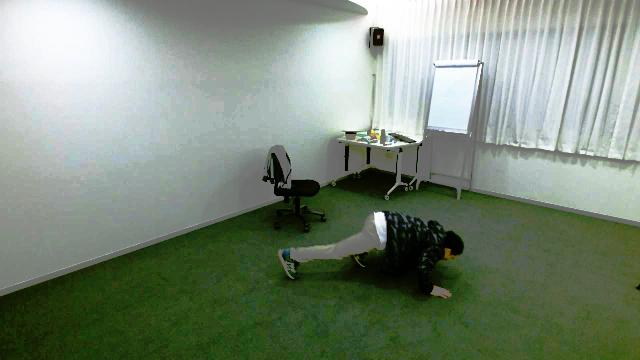jatuh: (278, 209, 464, 309)
